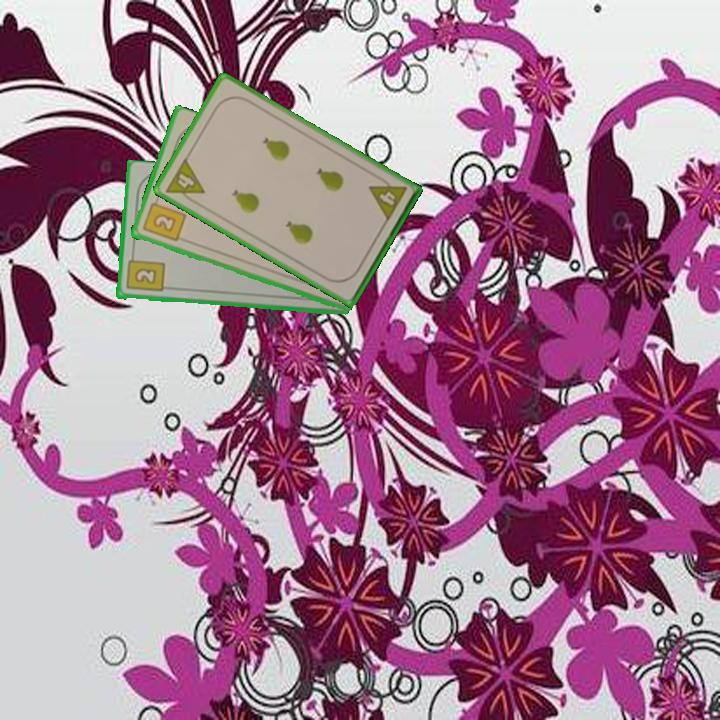2b: (139, 194, 188, 245), (123, 251, 167, 295)
4p: (162, 155, 207, 208), (365, 172, 410, 224)
